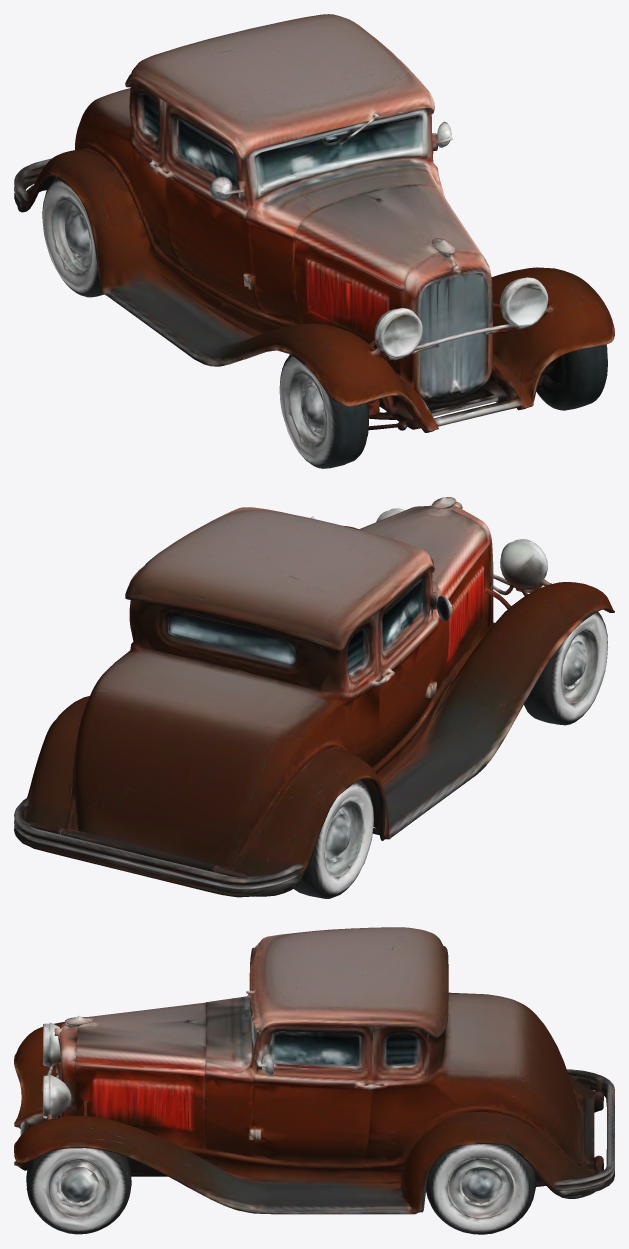
File: red car.glb
3 renders of one model, top to bottom at view 1: azimuth 30°, elevation 25°; view 2: azimuth 150°, elevation 25°; view 3: azimuth 270°, elevation 25°, orthographic. The views are drawn at different scales.
Visible parts, largest first — view 1: node_0; view 2: node_0; view 3: node_0.
Boxes of the visible parts, bbox=[...] form: node_0: bbox=[14, 14, 614, 468]; node_0: bbox=[14, 497, 614, 898]; node_0: bbox=[14, 927, 614, 1234].
Size of the model in its own units: 0.5264 by 0.4424 by 1.1.
Materials: 1 (1 with a texture image).
